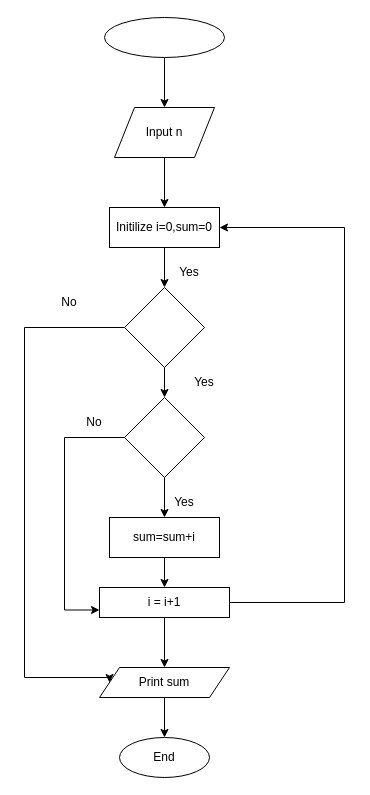
The diagram is 370 pixels wide and 795 high, and some of its shapes have lost their labels. The centre of each missing label's shape, as x and y in pixels:
i<n: (164,327)
if i%2==0: (164,437)
Start: (164,37)
